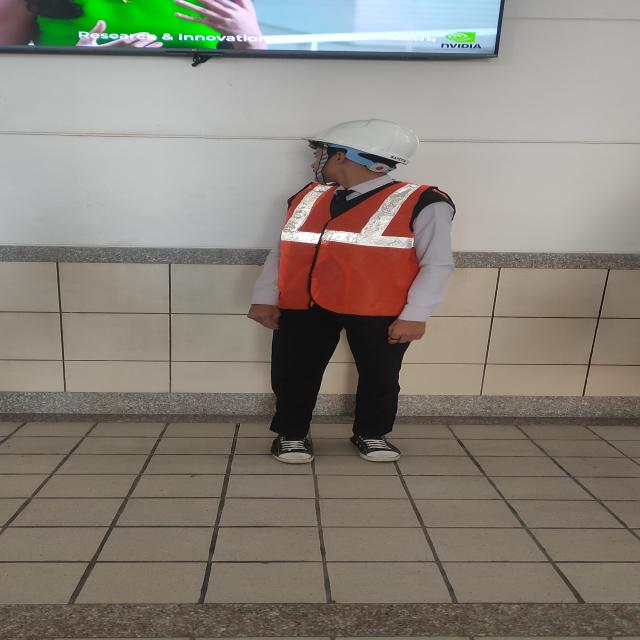safe: (250, 120, 453, 462)
